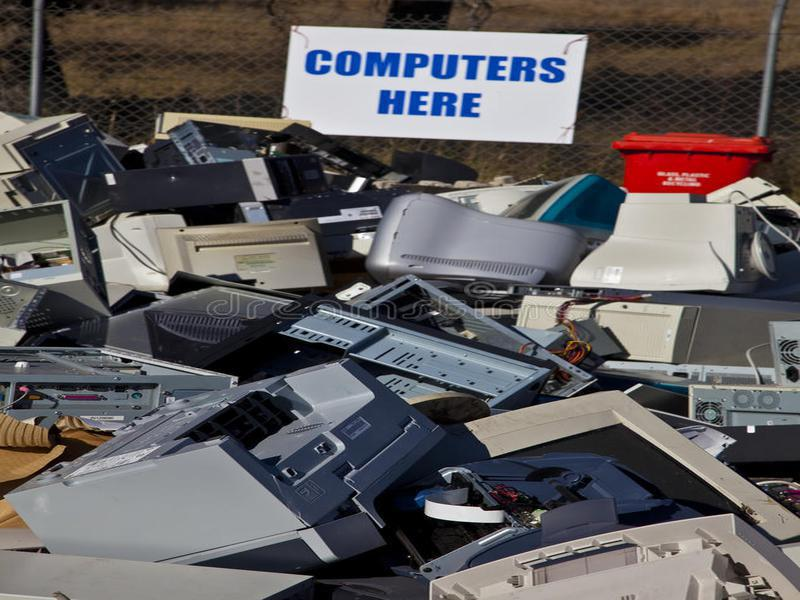tv_pc: (564, 185, 786, 299), (364, 184, 582, 293)
